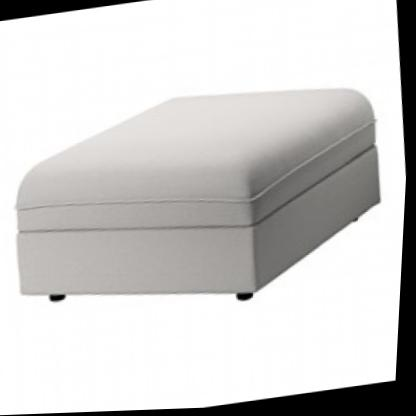Sofa: (0, 40, 401, 342)
